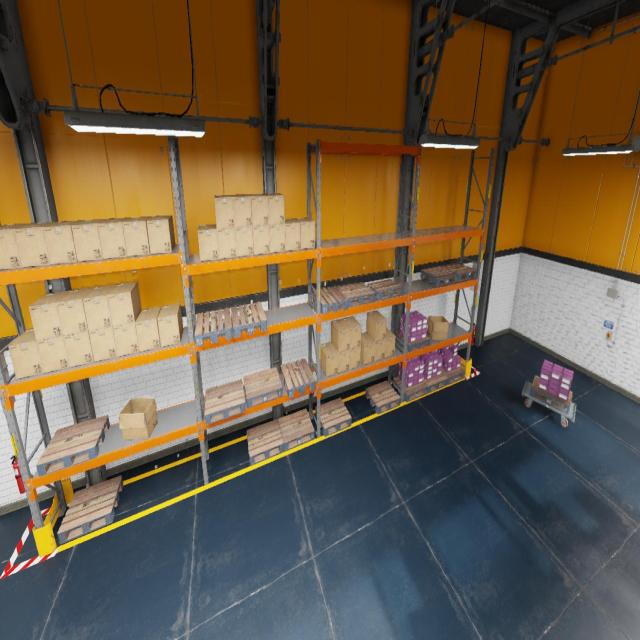box: (29, 290, 70, 341), (13, 222, 58, 267), (56, 288, 94, 336), (43, 220, 84, 264), (8, 328, 43, 379), (119, 398, 158, 440), (83, 284, 116, 330), (71, 219, 107, 261), (0, 222, 32, 269), (108, 282, 142, 326), (97, 217, 130, 259), (36, 336, 70, 373), (122, 216, 152, 257), (135, 306, 161, 352), (157, 303, 183, 347), (146, 215, 175, 254), (63, 332, 94, 368), (113, 315, 139, 357), (89, 327, 117, 362), (198, 224, 218, 261), (214, 195, 235, 229), (248, 194, 269, 226), (232, 194, 252, 227), (294, 217, 314, 249), (264, 193, 284, 225), (342, 316, 361, 349), (331, 319, 350, 352), (366, 310, 386, 341), (321, 342, 338, 377), (217, 228, 236, 259), (366, 332, 385, 361), (332, 344, 350, 374), (252, 225, 270, 255), (235, 226, 253, 256), (427, 316, 448, 339), (360, 332, 375, 364), (285, 218, 300, 250), (269, 224, 285, 252), (385, 328, 395, 358), (349, 346, 361, 369)
pallets: (58, 475, 124, 544), (36, 415, 110, 476), (205, 379, 245, 425), (246, 419, 284, 465), (530, 375, 572, 414), (244, 367, 282, 408), (278, 409, 314, 451), (195, 308, 232, 347), (280, 358, 316, 398), (316, 398, 352, 436), (231, 302, 267, 338), (365, 380, 400, 414), (312, 286, 348, 314), (337, 282, 375, 307), (393, 377, 427, 402), (367, 279, 403, 301), (420, 266, 458, 286), (395, 331, 430, 351), (441, 263, 477, 282), (423, 373, 447, 393), (442, 366, 466, 384)
